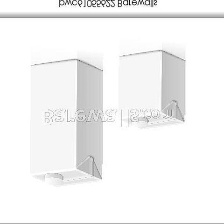carton: (22, 56, 108, 193), (113, 44, 195, 135)
